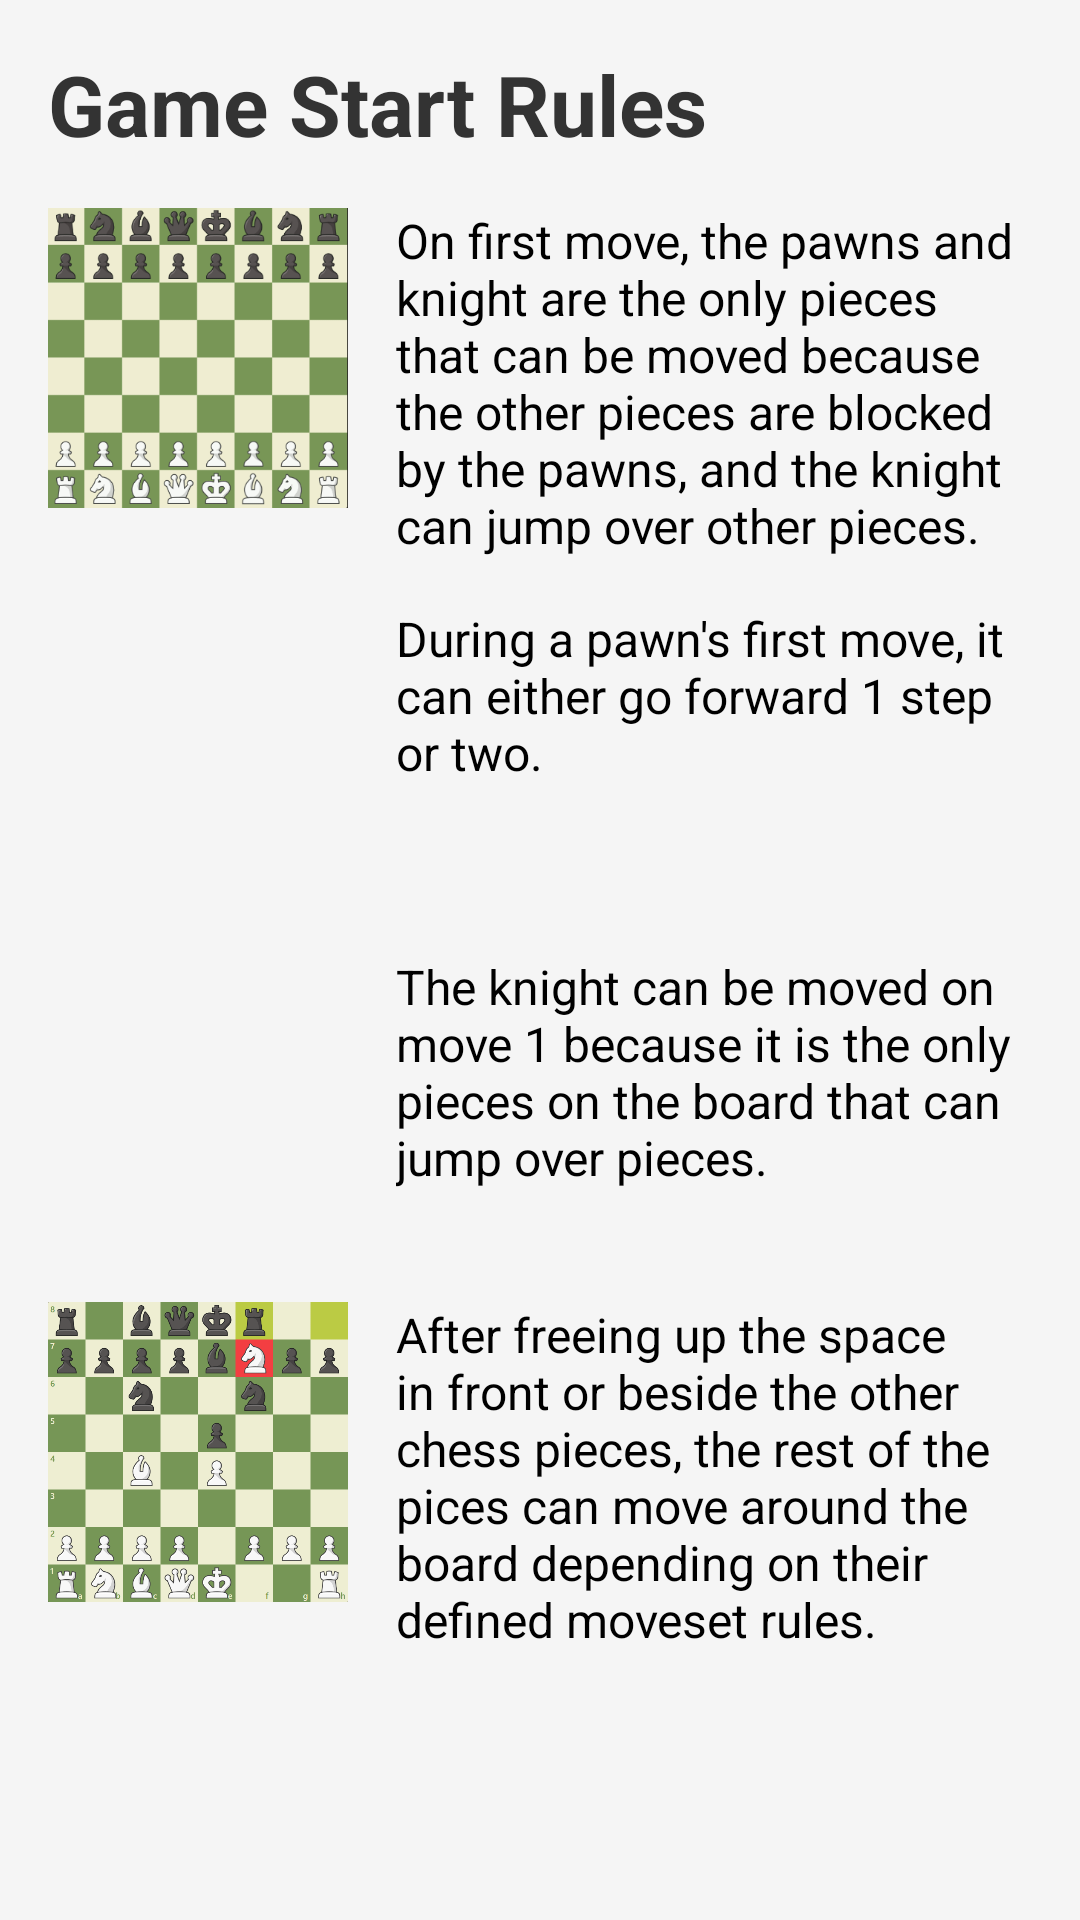

Screen size 1080w x 1920h. Icon name, then its box in pixels as (x1, y1, x2, y2):
defaultchessview: (48, 208, 348, 508)
gamestartfreespace: (48, 1302, 348, 1602)
